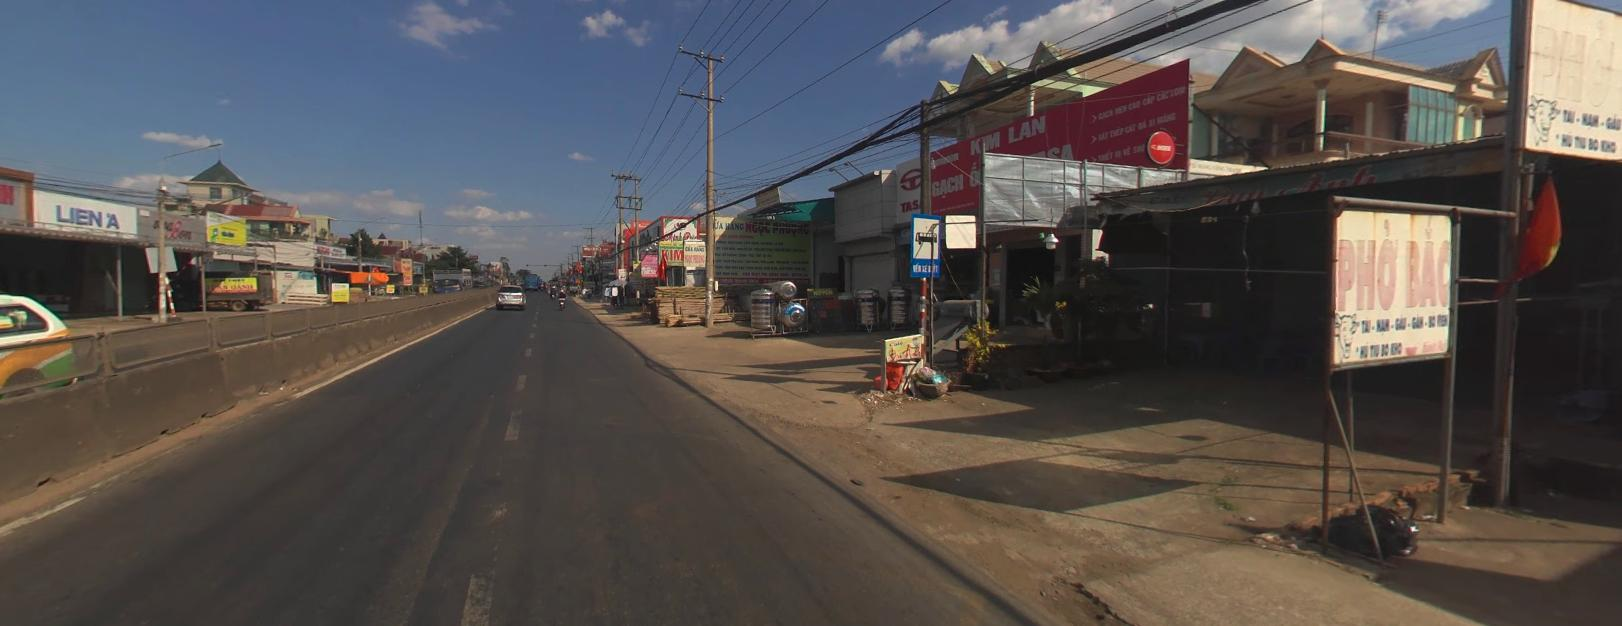Nguy hiem: (575, 275, 581, 281)
